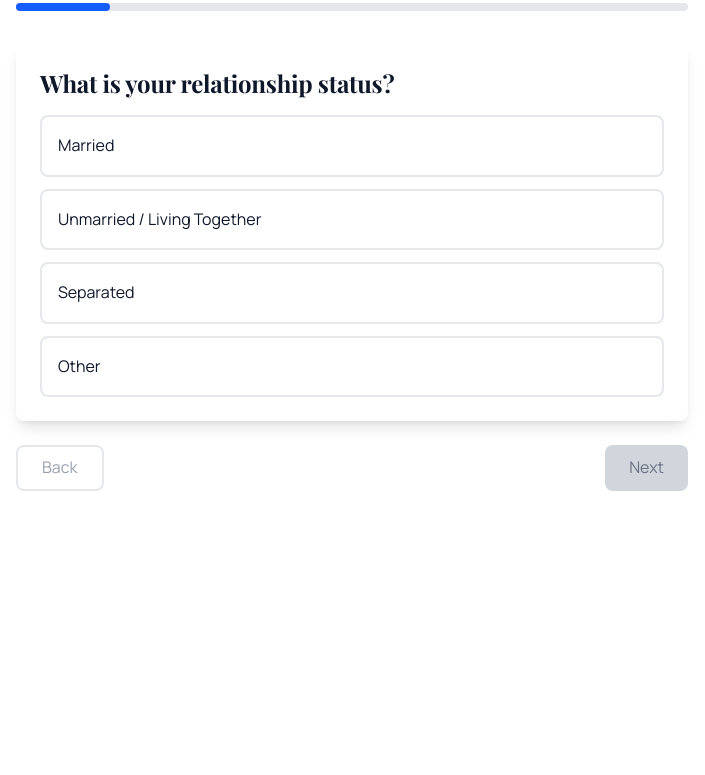
Test: InterviewForm › should handle back button
# Select an option to advance
Click the button "Married": {"x": 86, "y": 145} [40,115,664,177]
(page scrolled)
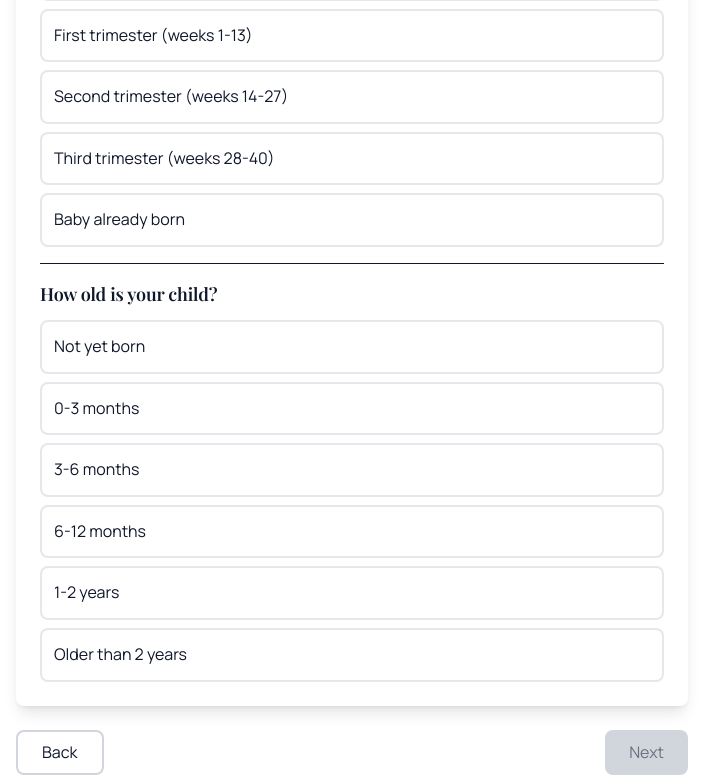
Expected: the heading "What is your relationship status?" is gone
# Click back button
Click the button "Back": {"x": 60, "y": 752} [16,730,104,774]
(page scrolled)
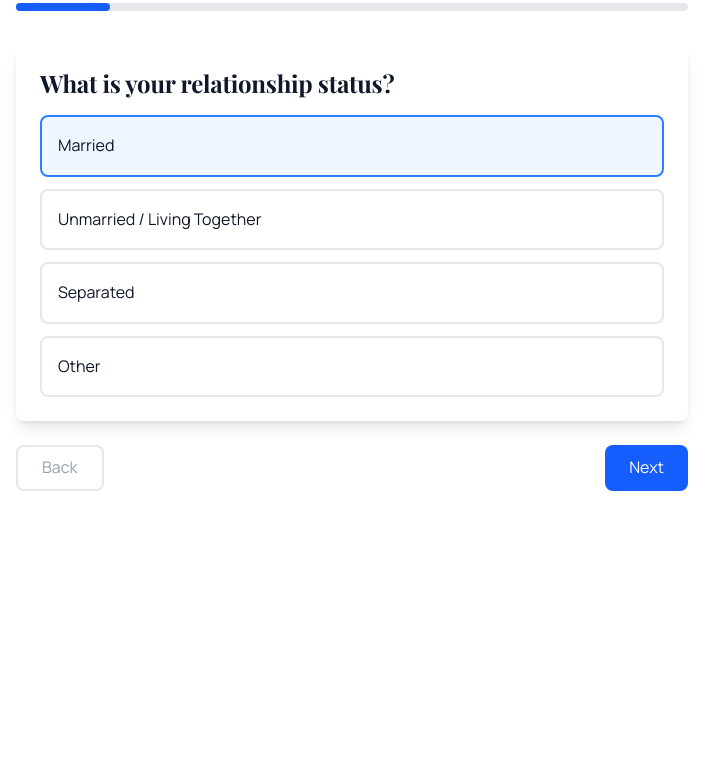
Expected: the heading "What is your relationship status?" is shown, [40,67,394,99]
